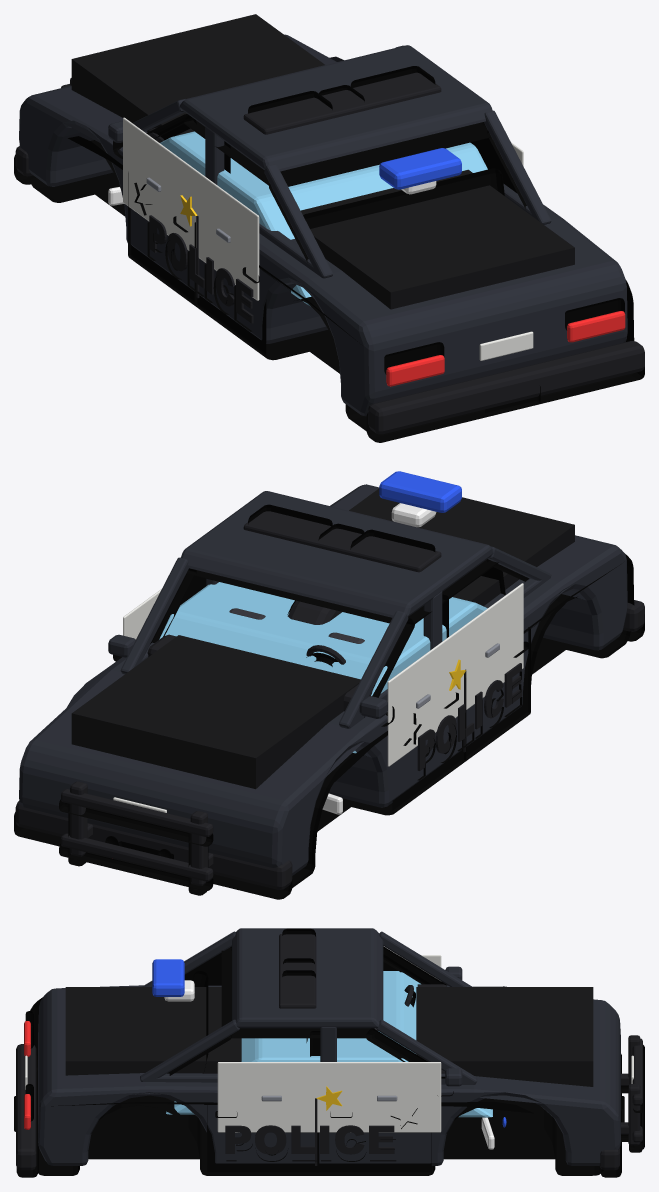
The model's file is PoliceCar.glb.
3 views of the same model, one above another, from view 1: azimuth 30°, elevation 25°; view 2: azimuth 150°, elevation 25°; view 3: azimuth 270°, elevation 25° (orthographic). The views are drawn at different scales.
Visible parts, largest first — view 1: Cop_Body__2A2D36, Cop_Body__141416, Cop_Body__000000, Cop_Body__1C1C20, Cop_Body__F2F2EE, Cop_Body__8FD0F0, Cop_Body__FF3030, Cop_Body__3060FF; view 2: Cop_Body__2A2D36, Cop_Body__141416, Cop_Body__000000, Cop_Body__1C1C20, Cop_Body__8FD0F0, Cop_Body__F2F2EE, Cop_Body__3060FF, Cop_Body__FFFFFF, Cop_Wheel__1C1C20; view 3: Cop_Body__2A2D36, Cop_Body__141416, Cop_Body__000000, Cop_Body__F2F2EE, Cop_Body__1C1C20, Cop_Body__8FD0F0, Cop_Body__3060FF, Cop_Body__FFFFFF, Cop_Body__FF3030.
Part boxes in pixels (x1,y1,x2,y2): Cop_Body__2A2D36: (19,34,627,416); Cop_Body__141416: (71,14,574,309); Cop_Body__000000: (14,66,644,442); Cop_Body__1C1C20: (15,72,644,434); Cop_Body__F2F2EE: (123,117,533,360); Cop_Body__8FD0F0: (160,131,487,305); Cop_Body__FF3030: (386,311,625,386); Cop_Body__3060FF: (379,148,461,189); Cop_Body__2A2D36: (19,484,627,875); Cop_Body__141416: (71,488,574,789); Cop_Body__000000: (14,504,644,899); Cop_Body__1C1C20: (15,511,644,889); Cop_Body__8FD0F0: (159,582,487,753); Cop_Body__F2F2EE: (113,583,523,812); Cop_Body__3060FF: (379,471,461,512); Cop_Body__FFFFFF: (322,503,436,814); Cop_Wheel__1C1C20: (287,600,341,624); Cop_Body__2A2D36: (38,928,620,1165); Cop_Body__141416: (65,987,593,1101); Cop_Body__000000: (14,928,644,1177); Cop_Body__F2F2EE: (25,955,633,1132); Cop_Body__1C1C20: (16,934,642,1170); Cop_Body__8FD0F0: (166,971,492,1117); Cop_Body__3060FF: (152,959,506,1127); Cop_Body__FFFFFF: (164,980,494,1149); Cop_Body__FF3030: (24,1021,30,1129).
Size of the model in its own units: 7.75 by 5.39 by 18.65.
